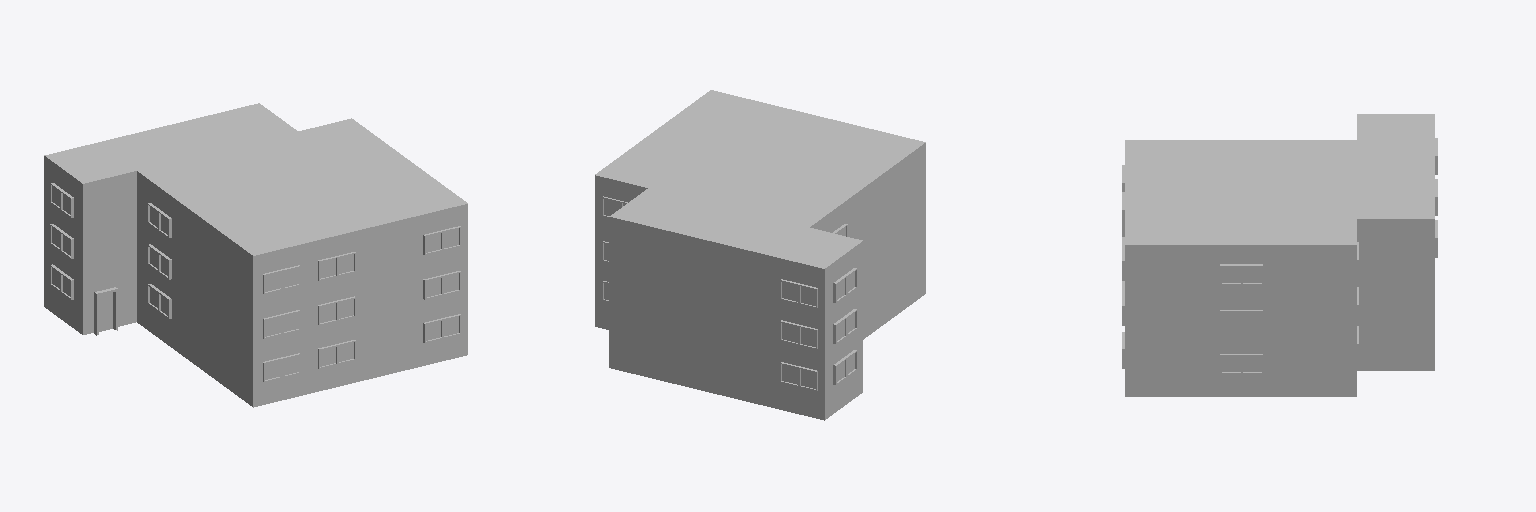
Rendered from building_3.obj.
3 views of the same model, side by side, from view 1: azimuth 30°, elevation 25°; view 2: azimuth 150°, elevation 25°; view 3: azimuth 270°, elevation 25° (orthographic).
Visible parts, largest first — view 1: building_3; view 2: building_3; view 3: building_3.
Boxes of the visible parts, <box> form: building_3: <box>44,103,467,407</box>; building_3: <box>595,90,925,420</box>; building_3: <box>1122,114,1437,396</box>.
Size of the model in its own units: 20.4 by 10.86 by 20.36.